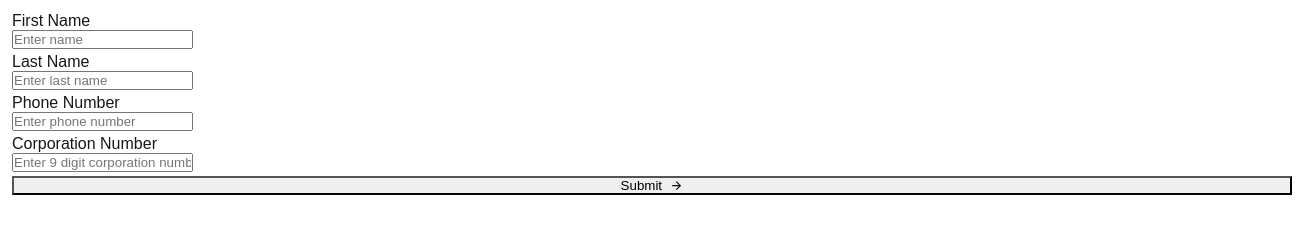
Test case: UserStepForm › should show error if corporation number is invalid
The width and height of the screenshot is (1304, 248).
Type "John" into the field with test id "firstName" at [102, 40], box [12,30,193,49]
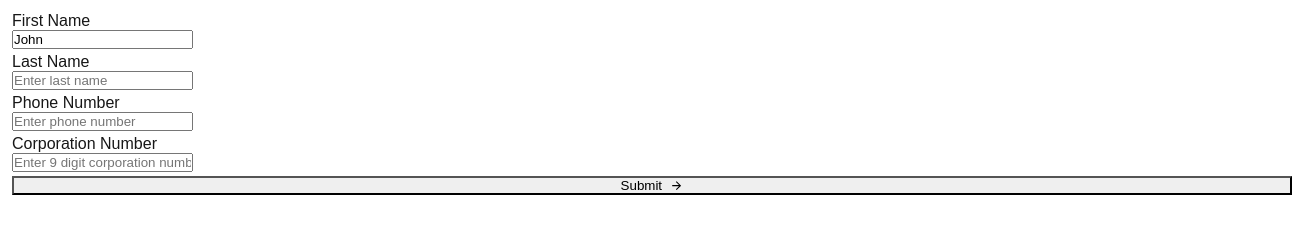
Type "Doe" into the field with test id "lastName" at [102, 80], box [12,71,193,90]
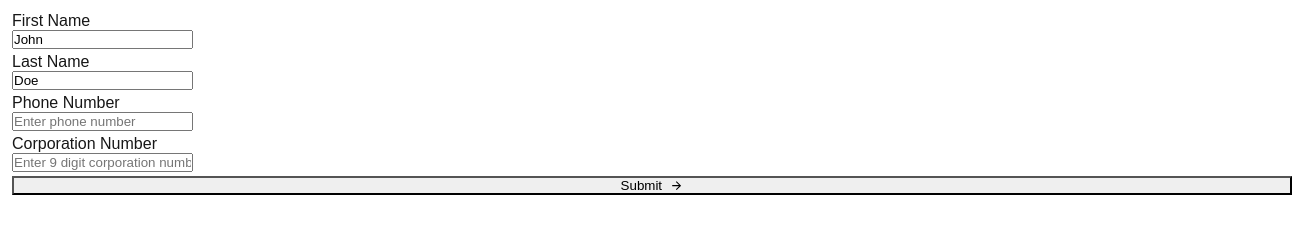
Type "+1234567890" into the field with test id "phone" at [102, 122], box [12,112,193,131]
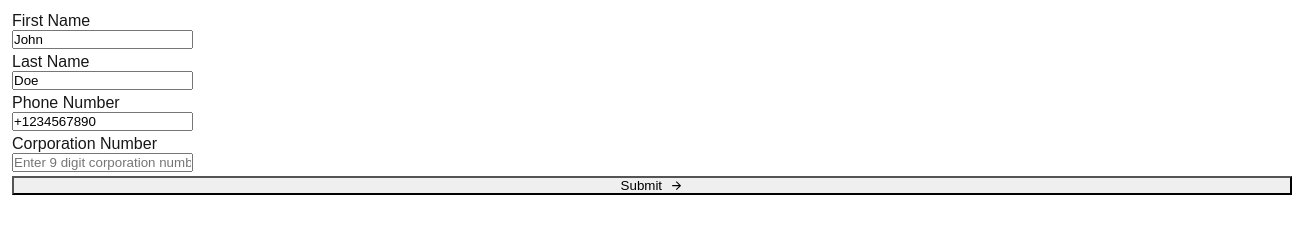
Type "1234" into the field with test id "corporationNumber" at [102, 162], box [12,153,193,172]
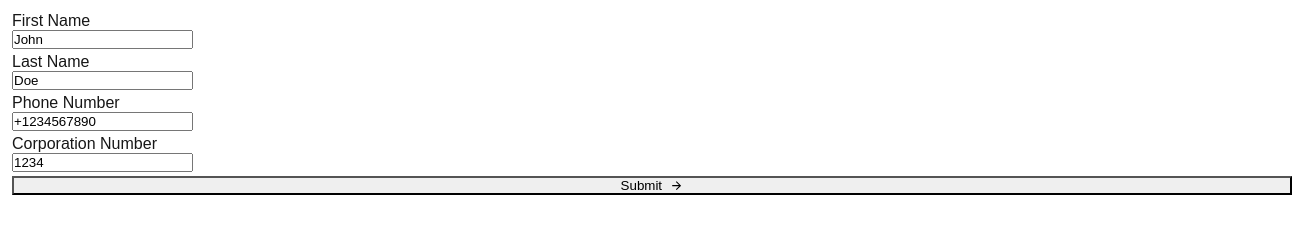
Click the button "Submit" at [652, 186], box [12,176,1292,195]
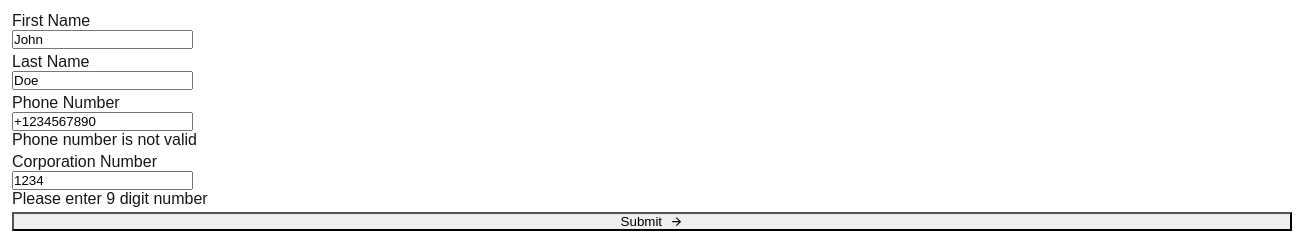
Check: the text "Please enter 9 digit number" is shown, box [12,190,208,207]
